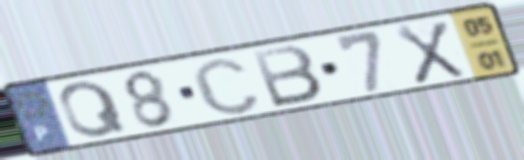7: (332, 29, 387, 96)
8: (121, 68, 178, 130)
B: (248, 43, 327, 110)
C: (188, 55, 265, 117)
Q: (56, 78, 132, 140)
X: (391, 18, 469, 87)
